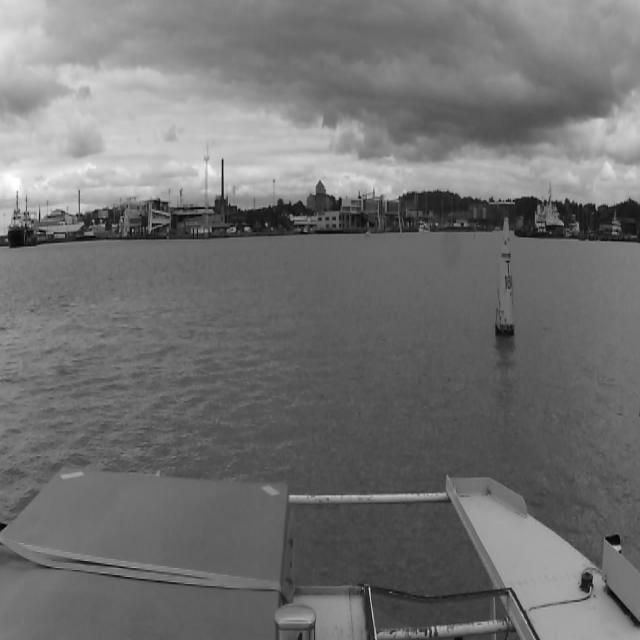buoy: (496, 217, 516, 331)
ship: (528, 200, 566, 236), (10, 192, 26, 247), (419, 221, 430, 233)
